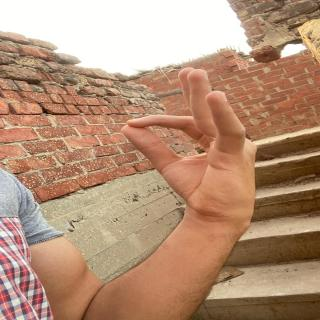Space: (126, 56, 277, 218)
